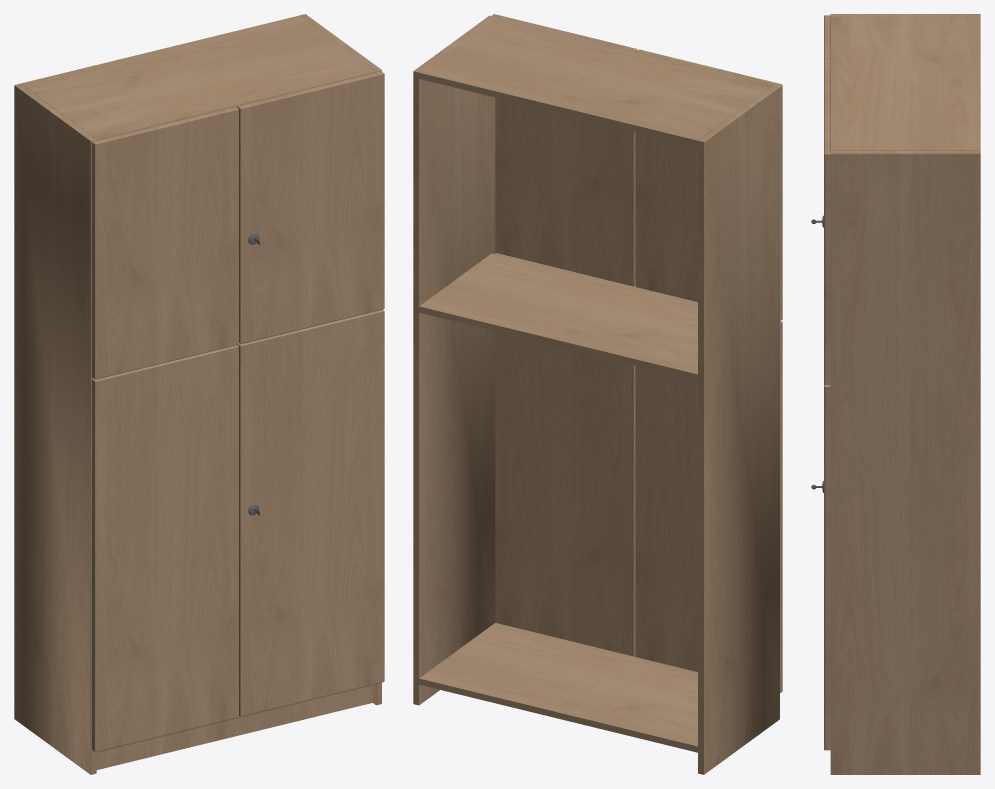
Rendered from Szafka308.fbx.
3 views of the same model, side by side, from view 1: azimuth 30°, elevation 25°; view 2: azimuth 150°, elevation 25°; view 3: azimuth 270°, elevation 25° (orthographic).
Visible parts, largest first — view 1: Cylinder.001; view 2: Cylinder.001; view 3: Cylinder.001.
Part boxes in pixels (x1,y1,x2,y2): Cylinder.001: [14, 14, 384, 774]; Cylinder.001: [413, 14, 782, 774]; Cylinder.001: [811, 14, 980, 774].
Bounding box in the file's own units: 88 × 183 × 45.2.
2 materials, 1 textured.
